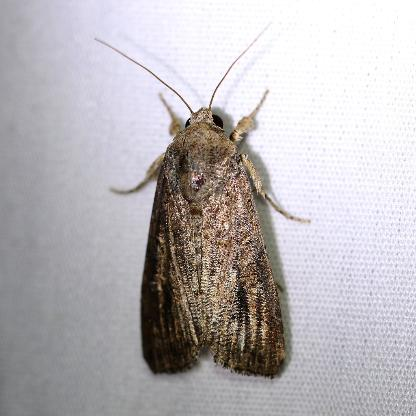Fall Armyworm Moth: (91, 20, 315, 384)
